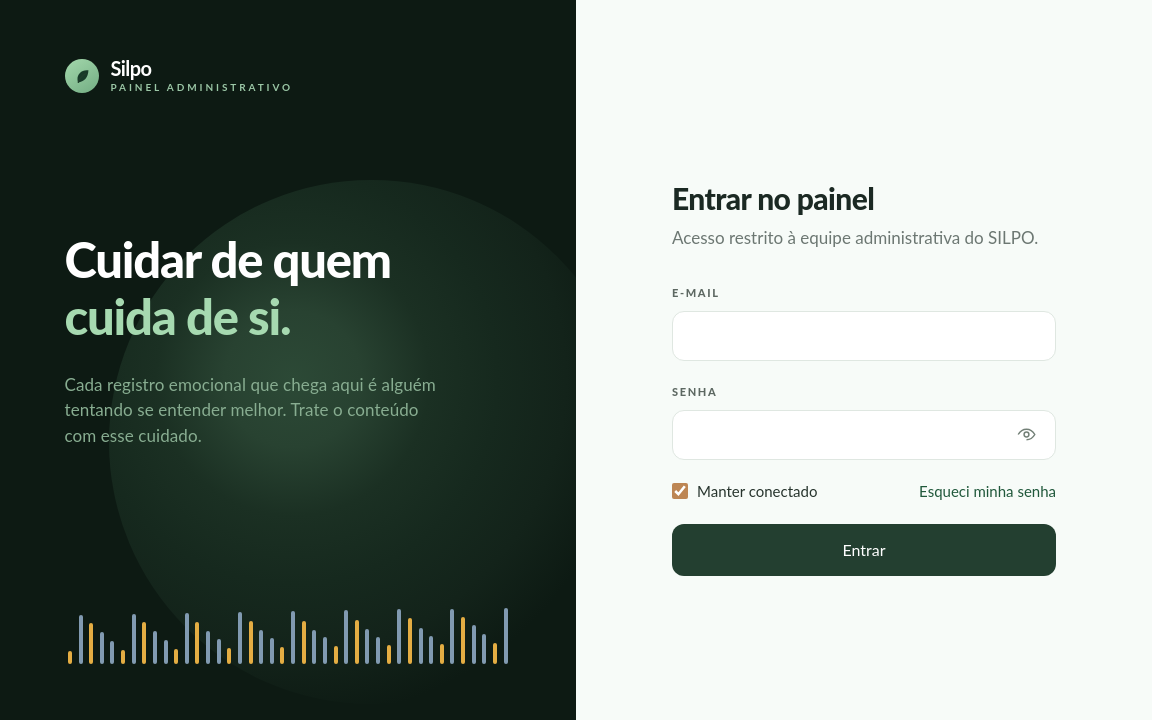
Test: admin authentication › logs an admin in, persists the session and opens the requested page
In the field labelled "E-mail": (864, 336) [672,311,1056,361], type "admin@silpo.org"
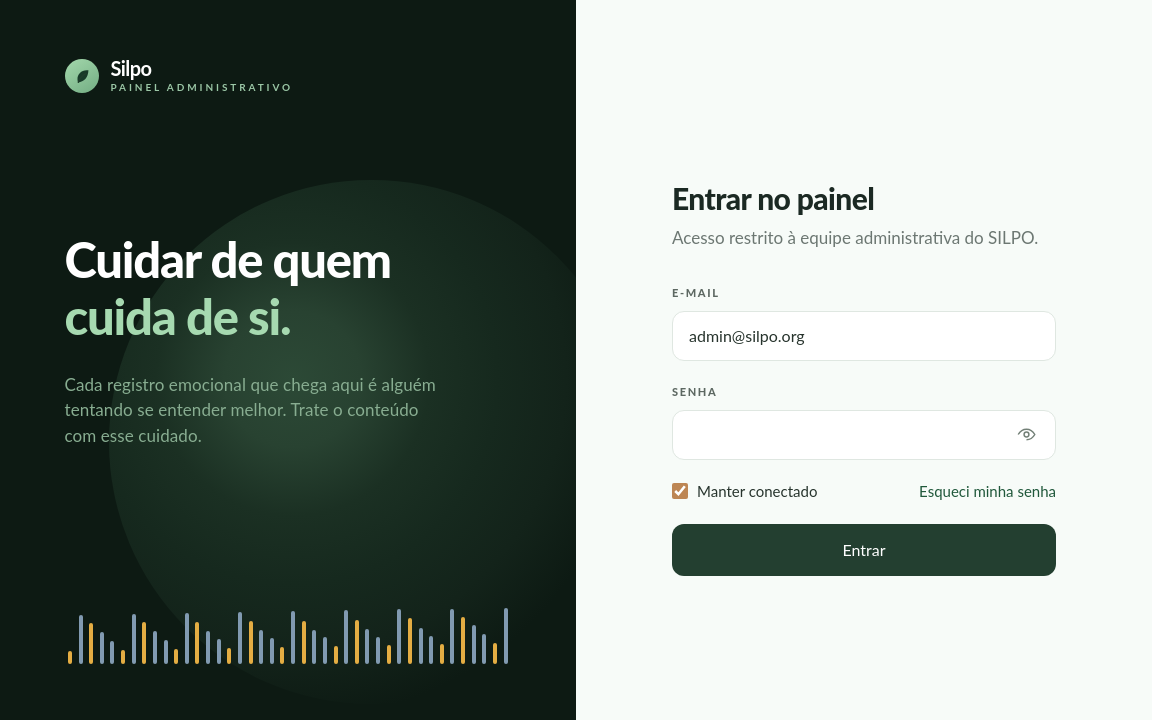
In the password field labelled "Senha": (864, 435) [672,410,1056,460], type "senha-segura"
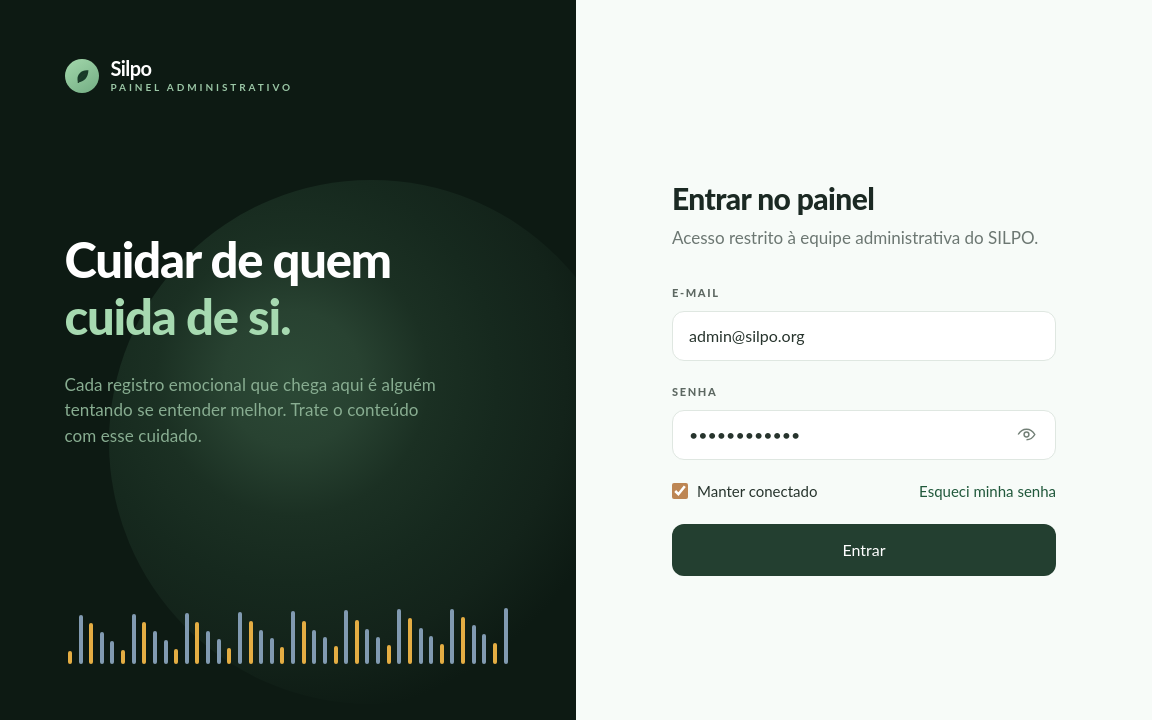
Click the button "Entrar": (864, 550) [672,524,1056,576]
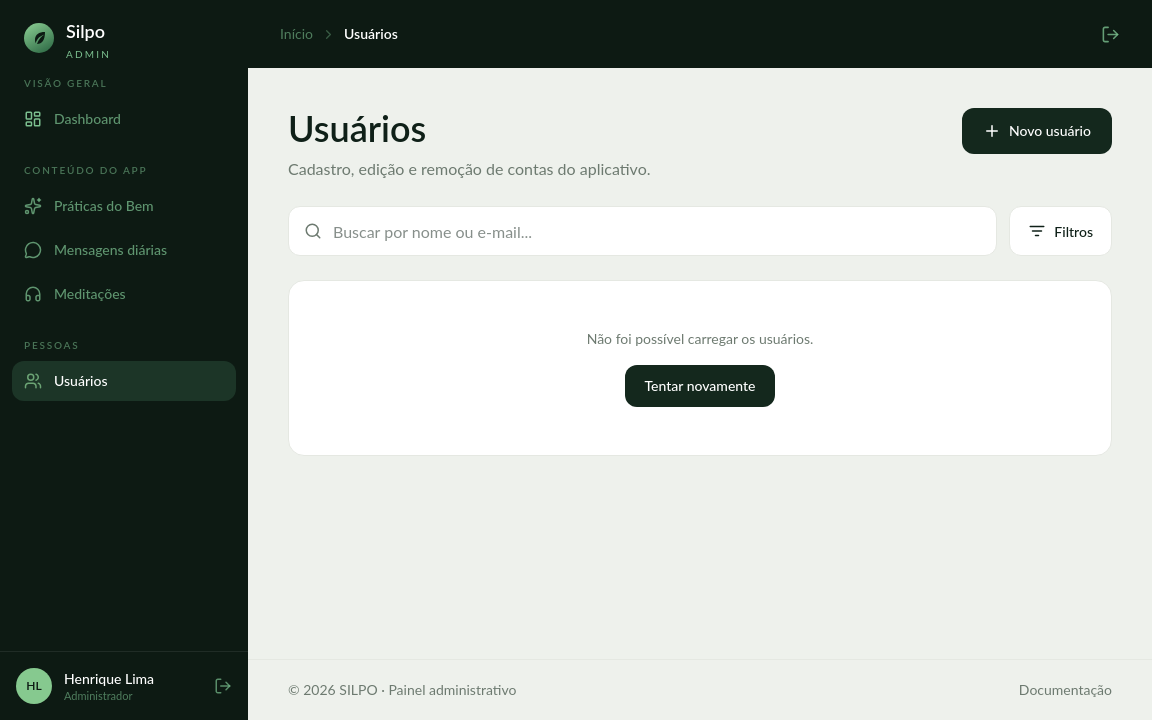
Check: the heading "Usuários" is shown, box [288,106,426,150]
Check: the text "Henrique Lima" is shown, box [64,670,154,687]
